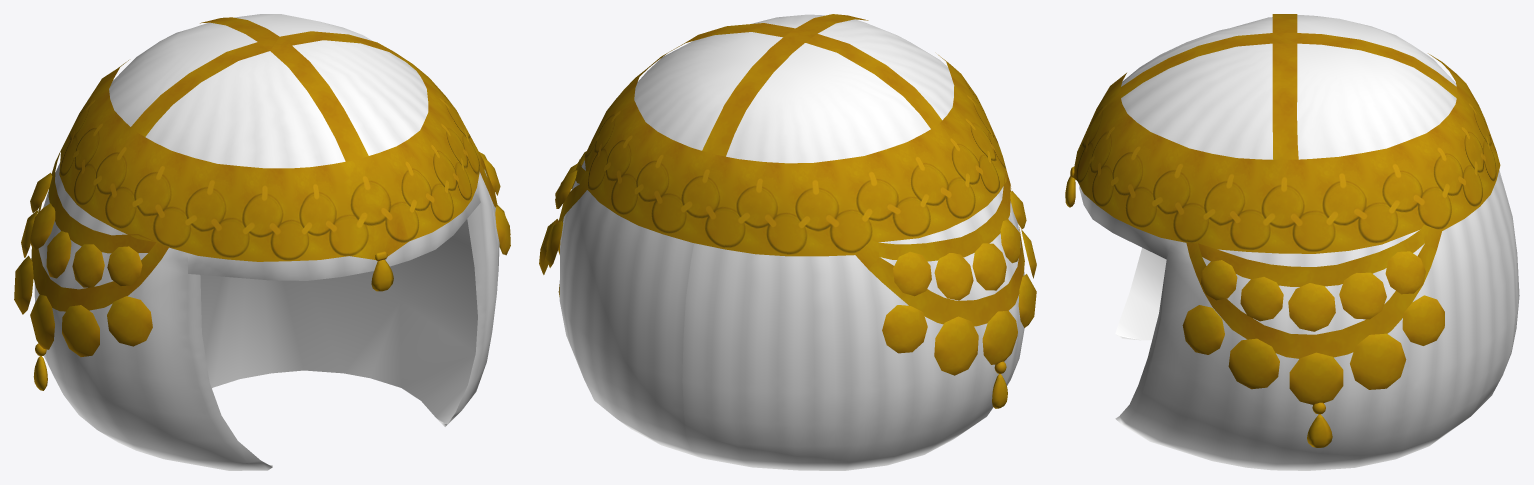
File: CapHelmetCoinGold.glb
The picture shows the model from 3 angles, left to right: view 1: azimuth 30°, elevation 25°; view 2: azimuth 150°, elevation 25°; view 3: azimuth 270°, elevation 25°; orthographic projection.
Parts seen in each view (by area): view 1: BodyHair__mCapHair, Body__mCap; view 2: BodyHair__mCapHair, Body__mCap; view 3: BodyHair__mCapHair, Body__mCap.
Boxes of the visible parts, bbox=[...] form: BodyHair__mCapHair: bbox=[34, 14, 499, 470]; Body__mCap: bbox=[14, 17, 510, 390]; BodyHair__mCapHair: bbox=[559, 14, 1024, 470]; Body__mCap: bbox=[539, 14, 1036, 408]; BodyHair__mCapHair: bbox=[1079, 15, 1519, 470]; Body__mCap: bbox=[1065, 14, 1500, 447].
Size of the model in its own units: 8.68 by 6.7 by 7.68.
2 materials, 2 textured.
